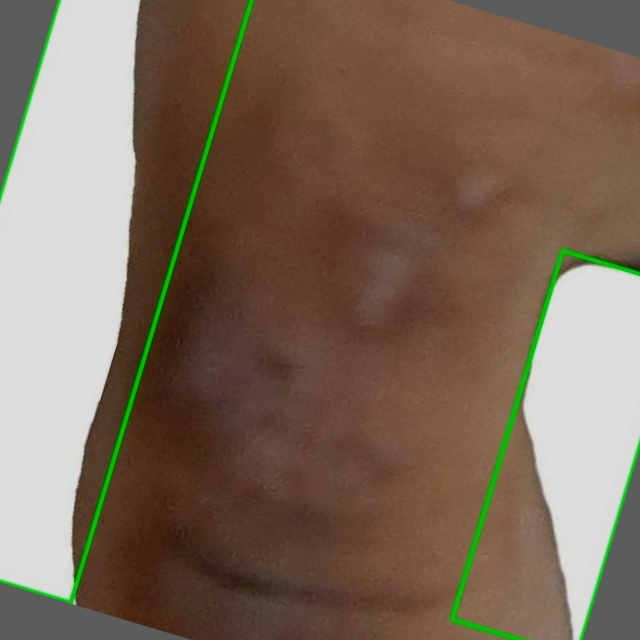Contact Dermatitis: (0, 0, 251, 602), (452, 250, 639, 639)
